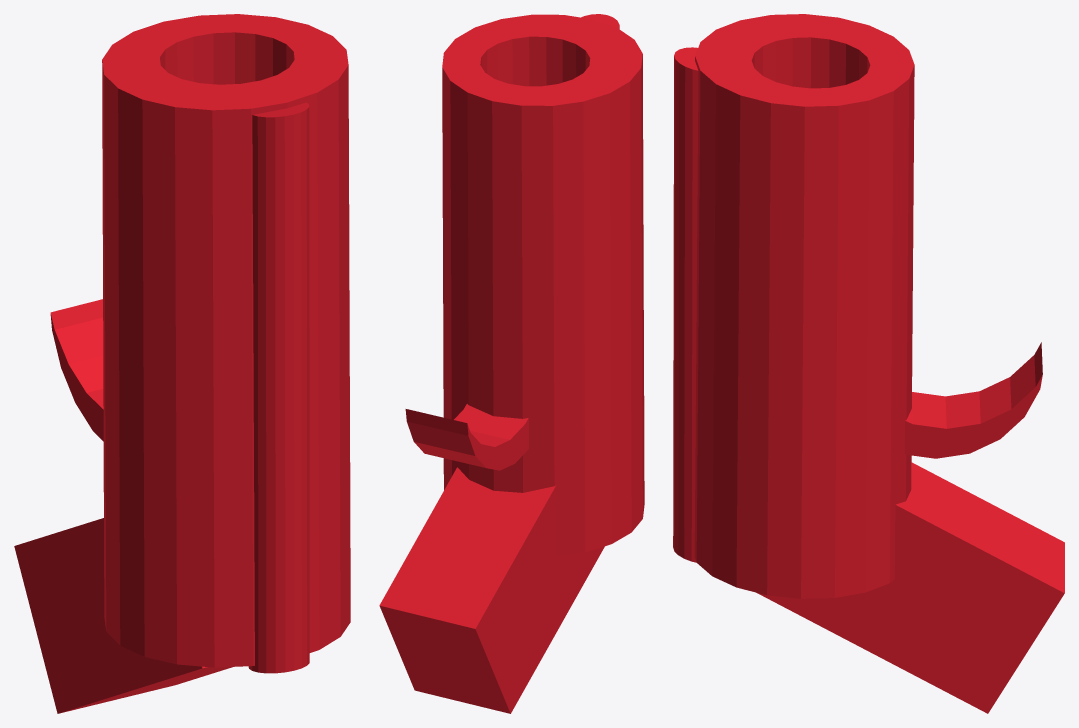
File: tinker_12.obj
3 views of the same model, side by side, from view 1: azimuth 30°, elevation 25°; view 2: azimuth 150°, elevation 25°; view 3: azimuth 270°, elevation 25° (orthographic). The views are drawn at different scales.
Visible parts, largest first — view 1: obj_0; view 2: obj_0; view 3: obj_0.
Part boxes in pixels (bbox=[...]): obj_0: bbox=[14, 14, 350, 713]; obj_0: bbox=[379, 14, 644, 713]; obj_0: bbox=[673, 14, 1064, 713].
Size of the model in its own units: 20 by 63.81 by 35.69.
